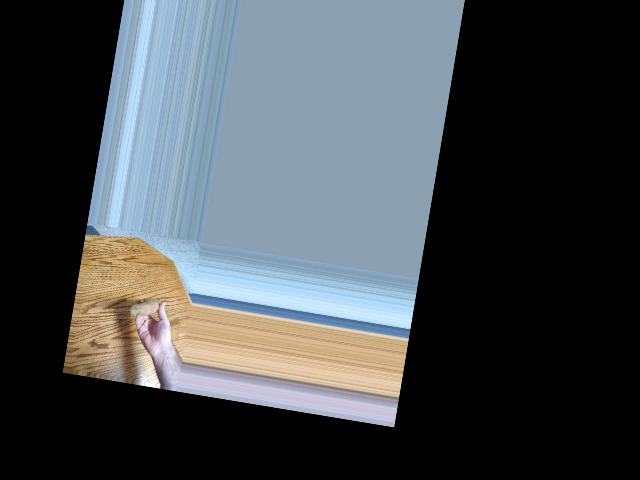sweet_potato: (129, 298, 161, 321)
